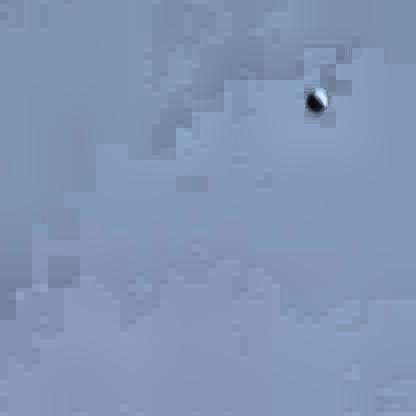golfball: (303, 86, 325, 110)
